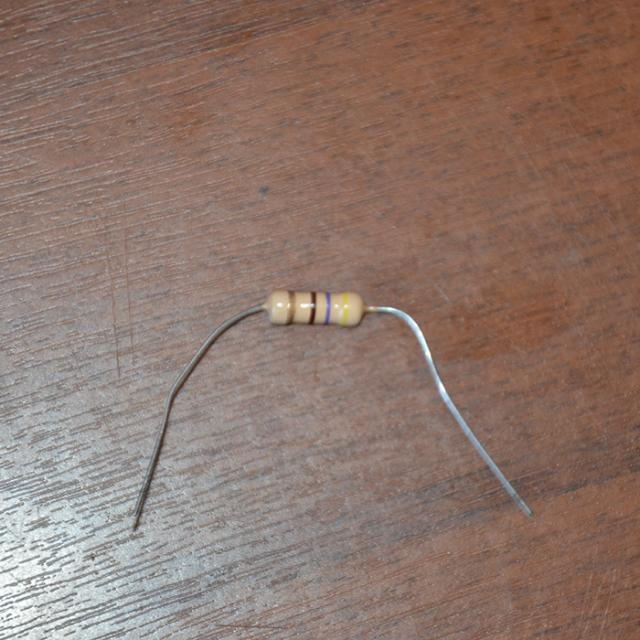brown: (309, 292, 316, 322)
gold: (287, 291, 296, 323)
resistor: (256, 281, 383, 337)
violet: (324, 293, 330, 322)
yellow: (342, 293, 348, 325)
